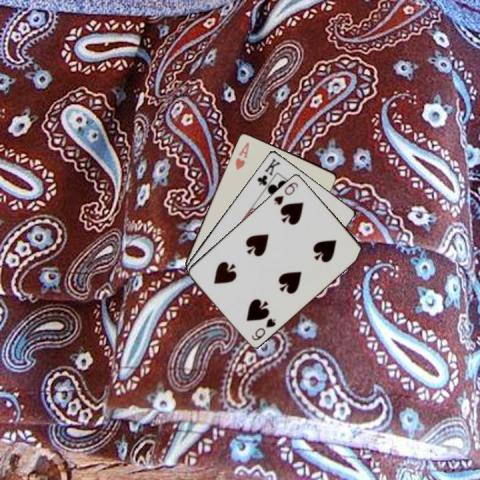6s: (271, 179, 300, 206), (249, 315, 277, 342)
Ah: (232, 139, 251, 171)
Kc: (254, 154, 281, 186)
